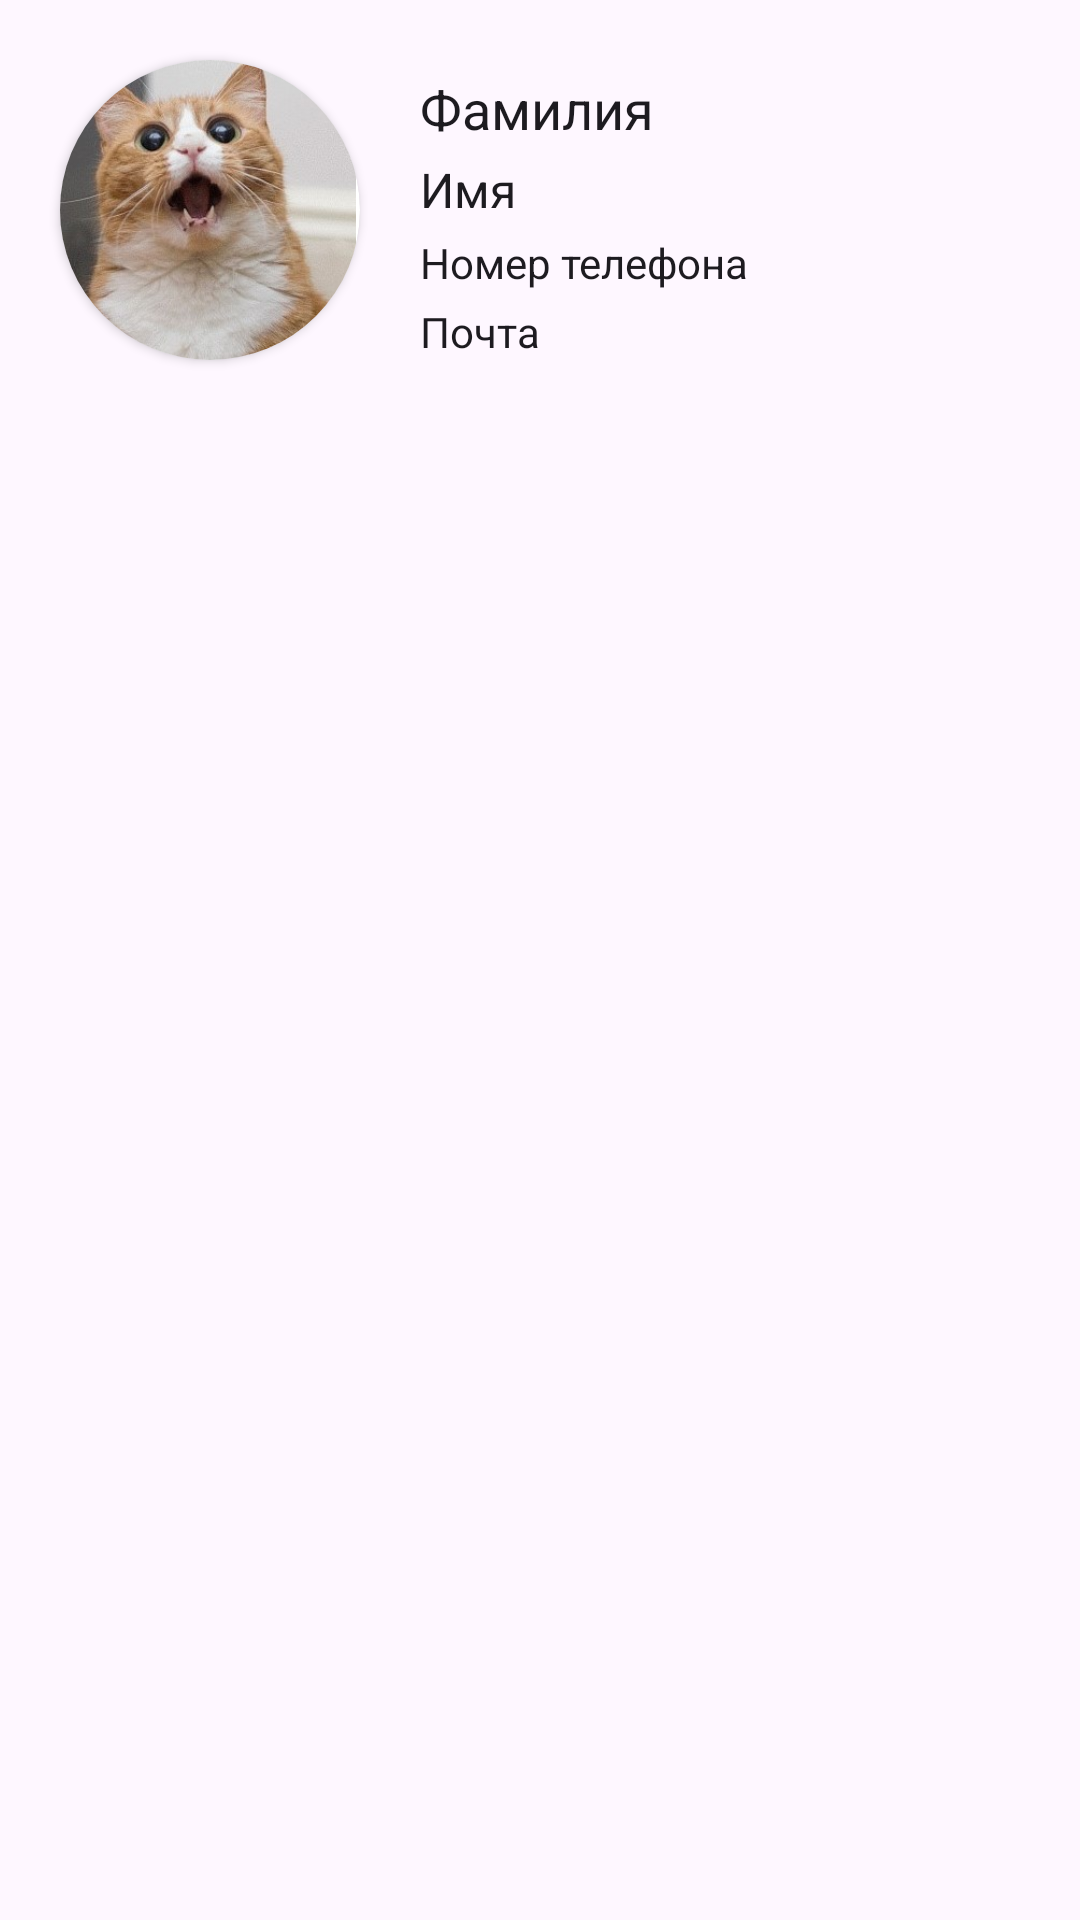

Named icons in this screenshot (1080*1920) and their centers, [x,y]:
Иконка профиля: [208,210]
